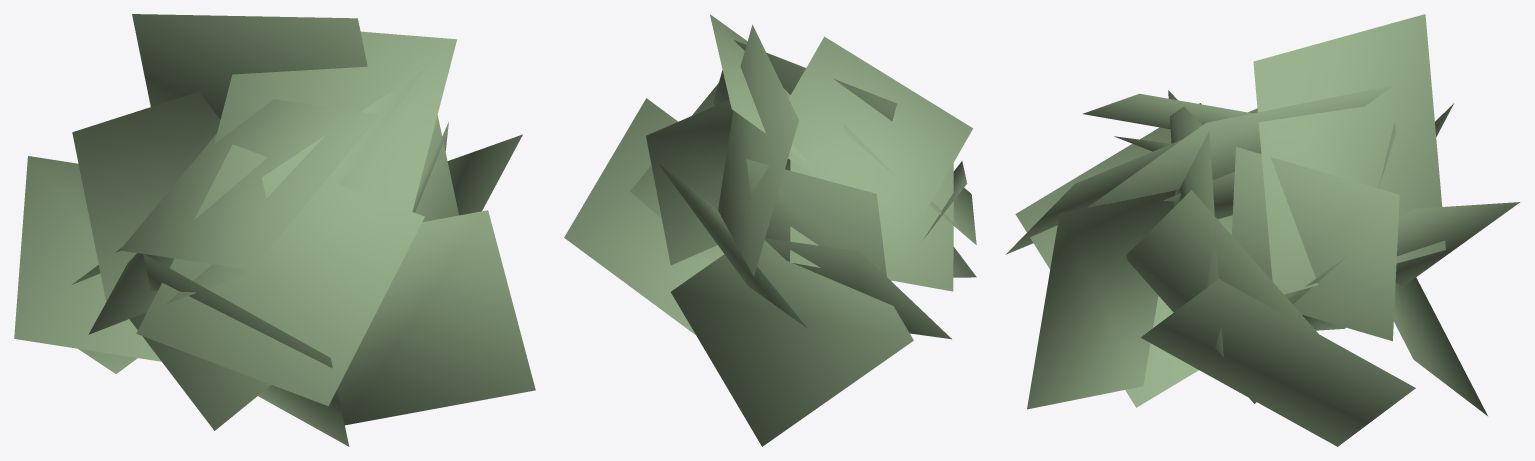
File: shrub_fringe.glb
3 views of the same model, side by side, from view 1: azimuth 30°, elevation 25°; view 2: azimuth 150°, elevation 25°; view 3: azimuth 270°, elevation 25° (orthographic). The views are drawn at different scales.
Visible parts, largest first — view 1: shrub_fringe; view 2: shrub_fringe; view 3: shrub_fringe.
Part boxes in pixels (x1,y1,x2,y2): shrub_fringe: (14,14,535,446); shrub_fringe: (564,14,976,446); shrub_fringe: (1005,14,1520,446).
Bounding box in the file's own units: 1.89 × 1.64 × 1.83.
